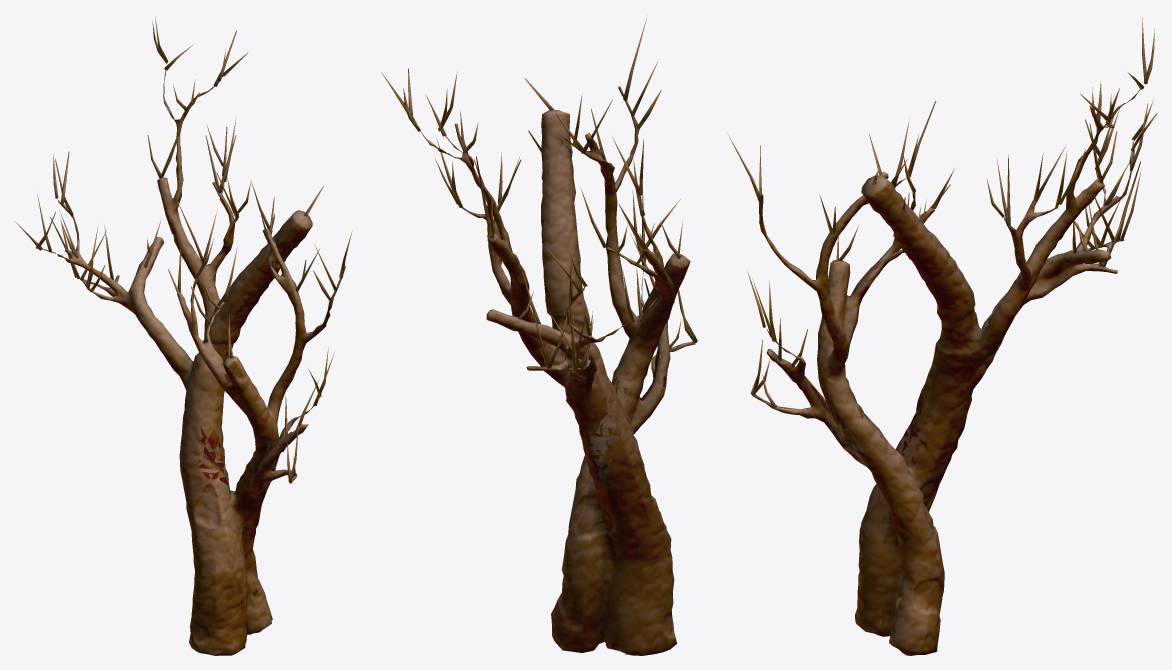
File: hroot_a.glb
3 renders of one model, left to right at view 1: azimuth 30°, elevation 25°; view 2: azimuth 150°, elevation 25°; view 3: azimuth 270°, elevation 25°, orthographic. The views are drawn at different scales.
Parts seen in each view (by area): view 1: bark, rootlets; view 2: bark, rootlets; view 3: bark, rootlets.
Boxes of the visible parts, x1=… form: bark: x1=42, y1=70, x2=345, y2=655; rootlets: x1=15, y1=17, x2=352, y2=482; bark: x1=420, y1=86, x2=695, y2=655; rootlets: x1=381, y1=18, x2=697, y2=373; bark: x1=753, y1=89, x2=1140, y2=655; rootlets: x1=727, y1=17, x2=1157, y2=406.
Bounding box in the file's own units: 0.7594 × 1.77 × 1.08.
2 materials, 2 textured.
